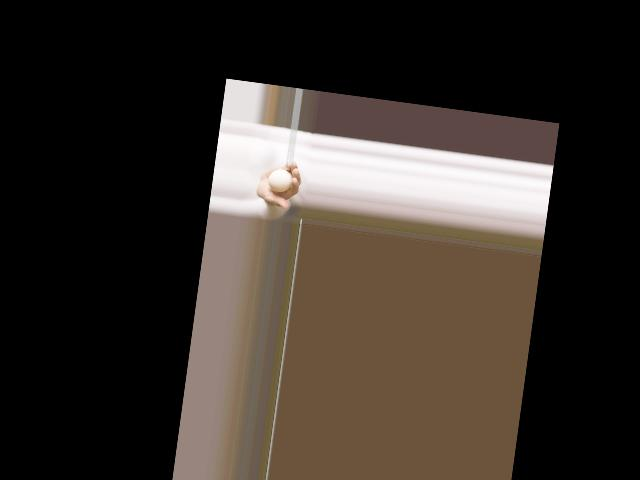egg: (267, 167, 293, 193)
